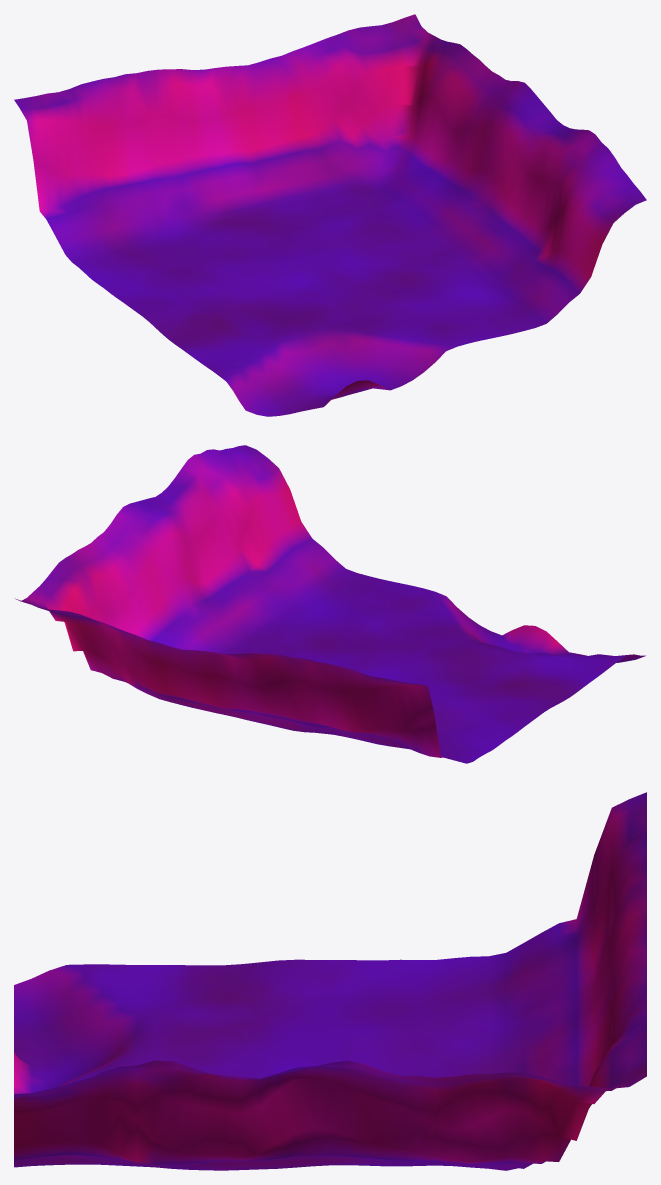
File: ground_03.glb
3 views of the same model, one above another, from view 1: azimuth 30°, elevation 25°; view 2: azimuth 150°, elevation 25°; view 3: azimuth 270°, elevation 25° (orthographic). The views are drawn at different scales.
Visible parts, largest first — view 1: Ground_03; view 2: Ground_03; view 3: Ground_03.
Part boxes in pixels (<box>): Ground_03: <box>14,14,646,416</box>; Ground_03: <box>15,445,645,763</box>; Ground_03: <box>14,792,646,1170</box>.
Size of what is drawn, in the model's own units: 36 by 13.54 by 36.
